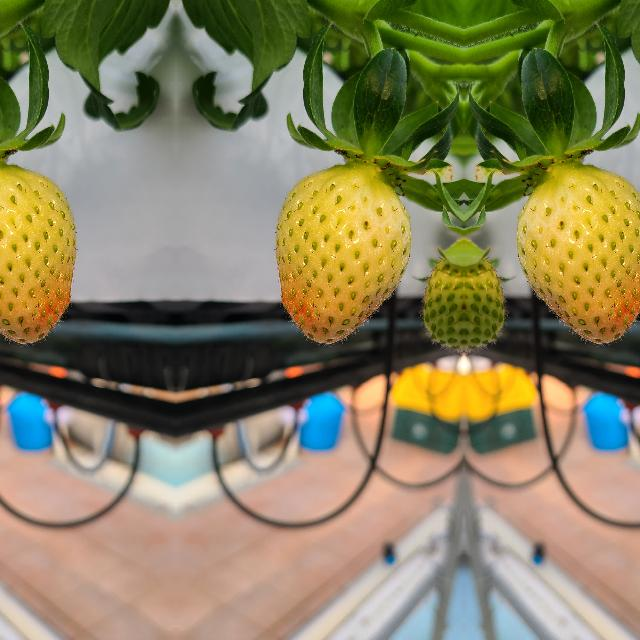Health_25: (422, 250, 462, 354), (464, 250, 504, 354)
Health_50: (273, 164, 412, 348), (514, 164, 640, 348), (0, 164, 77, 348)
